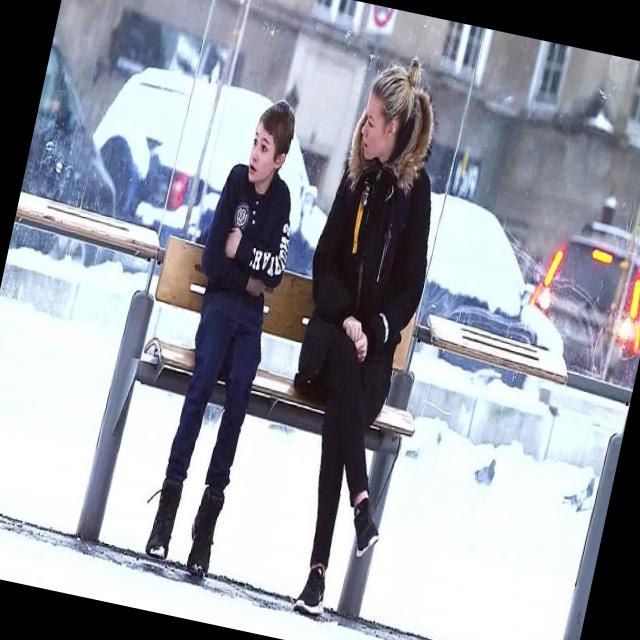Jacket: (280, 126, 452, 438), (184, 164, 307, 324)
